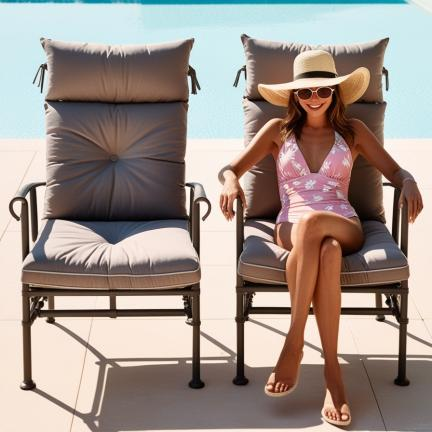empty chair: (9, 39, 211, 390)
guest on chair: (219, 35, 423, 426)
